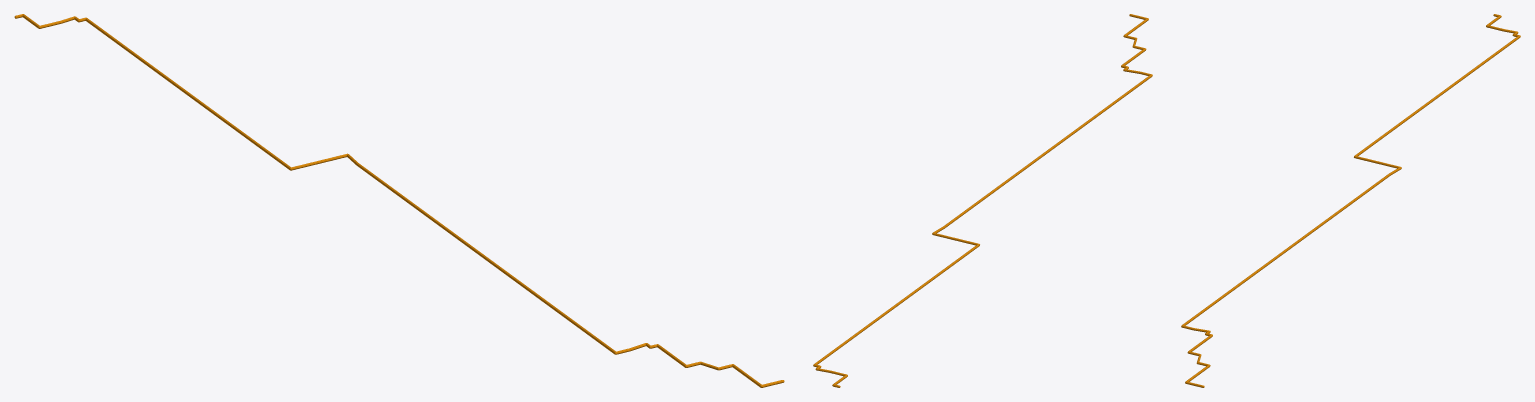
3 renders of one model, left to right at view 1: azimuth 30°, elevation 25°; view 2: azimuth 150°, elevation 25°; view 3: azimuth 330°, elevation 25°, orthographic. The views are drawn at different scales.
Bounding box in the file's own units: 1444 × 20 × 6911.
